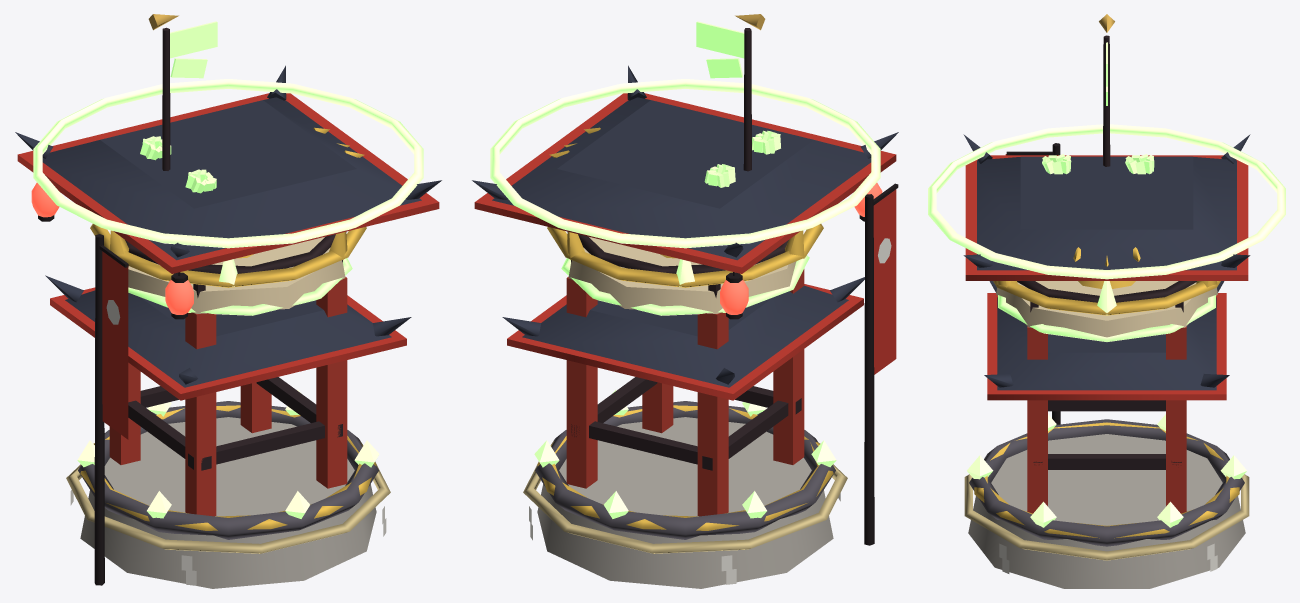
The model's file is tower_archer_arrowRain_ultimate.glb.
The picture shows the model from 3 angles, left to right: view 1: azimuth 30°, elevation 25°; view 2: azimuth 150°, elevation 25°; view 3: azimuth 270°, elevation 25°; orthographic projection. The views are drawn at different scales.
Parts seen in each view (by area): view 1: deco_eave_0_roof, base, deco_eave_1_roof, ult_halo, deco_eave_0_rim, base_rim, deck, deco_eave_1_rim, post_wn, post_en, deco_nobori_cloth, deco_shimenawa_rope (+18 smaller); view 2: deco_eave_0_roof, base, deco_eave_1_roof, ult_halo, base_rim, deco_eave_0_rim, deco_eave_1_rim, deck, post_ws, post_es, deco_shimenawa_rope, deco_nobori_cloth (+17 smaller); view 3: deco_eave_0_roof, base, deco_eave_1_roof, base_rim, ult_halo, deck, deco_eave_0_rim, deco_eave_1_rim, deco_shimenawa_rope, post_en, post_es, ult_crown_band (+8 smaller).
Part boxes in pixels (box(x1,y1,x2,y2)): deco_eave_0_roof: box(42, 97, 421, 260); base: box(80, 417, 376, 588); deco_eave_1_roof: box(65, 290, 391, 387); ult_halo: box(33, 79, 423, 248); deco_eave_0_rim: box(17, 93, 439, 273); base_rim: box(78, 401, 378, 539); deck: box(128, 237, 345, 313); deco_eave_1_rim: box(50, 287, 406, 400); post_wn: box(185, 312, 216, 516); post_en: box(316, 277, 347, 488); deco_nobori_cloth: box(102, 251, 128, 439); deco_shimenawa_rope: box(66, 461, 390, 553); deco_eave_0_roof: box(492, 97, 871, 260); base: box(537, 417, 833, 588); deco_eave_1_roof: box(522, 285, 848, 387); ult_halo: box(490, 79, 880, 248); base_rim: box(535, 401, 835, 539); deco_eave_0_rim: box(474, 93, 896, 273); deco_eave_1_rim: box(507, 284, 863, 400); deck: box(568, 237, 796, 313); post_ws: box(697, 312, 728, 516); post_es: box(566, 277, 597, 488); deco_shimenawa_rope: box(523, 461, 847, 553); deco_nobori_cloth: box(873, 189, 896, 374); deco_eave_0_roof: box(977, 156, 1236, 270); base: box(968, 434, 1245, 588); deco_eave_1_roof: box(997, 297, 1216, 390); base_rim: box(969, 419, 1244, 546); ult_halo: box(928, 124, 1285, 279); deck: box(996, 281, 1217, 337); deco_eave_0_rim: box(965, 155, 1248, 280); deco_eave_1_rim: box(987, 293, 1226, 400); deco_shimenawa_rope: box(964, 474, 1249, 560); post_en: box(1027, 326, 1047, 513); post_es: box(1166, 326, 1186, 513); ult_crown_band: box(993, 281, 1220, 315).
Bounding box in the file's own units: 0.434 × 0.64 × 0.4274.
